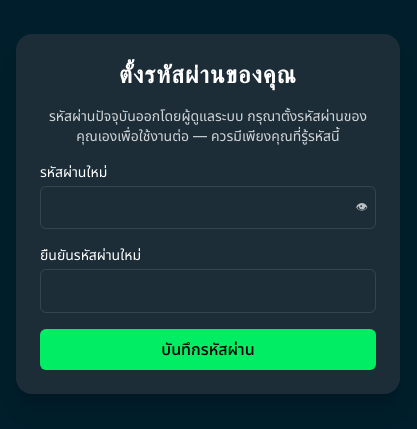
Scenario: ChangePasswordPage error reporting › reports a server fault as a fault, not a validation problem
Expected: the heading "ตั้งรหัสผ่านของคุณ" is shown, [119,59,297,89]
Type "BrandNewPass1" into the password field labelled "รหัสผ่านใหม่" at x=208, y=207, box [40,186,376,229]
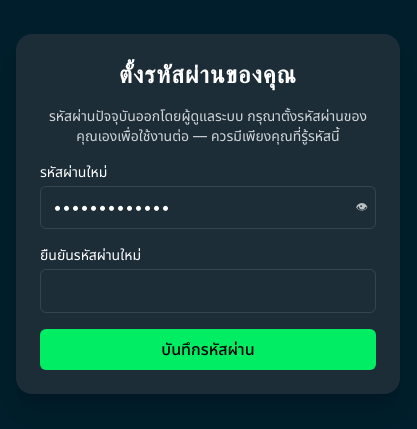
Type "BrandNewPass1" into the password field labelled "ยืนยันรหัสผ่านใหม่" at x=208, y=291, box [40,269,376,313]
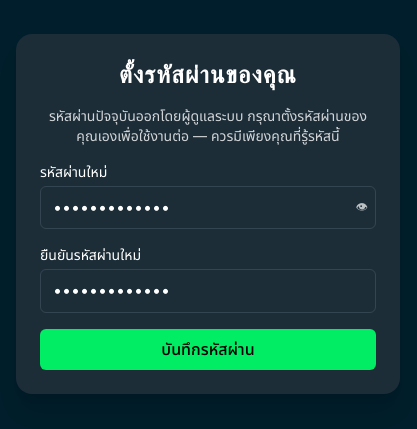
Click the button "บันทึกรหัสผ่าน" at x=208, y=350, box [40,329,376,370]
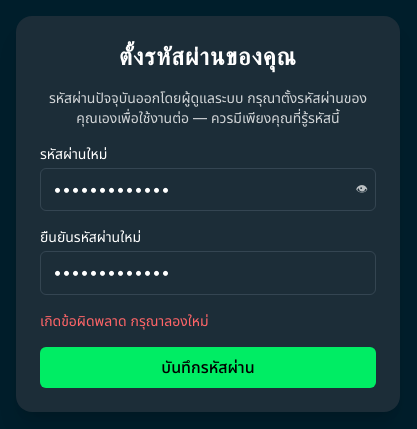
Now the message shows "เกิดข้อผิดพลาด", box [40,312,209,329]
